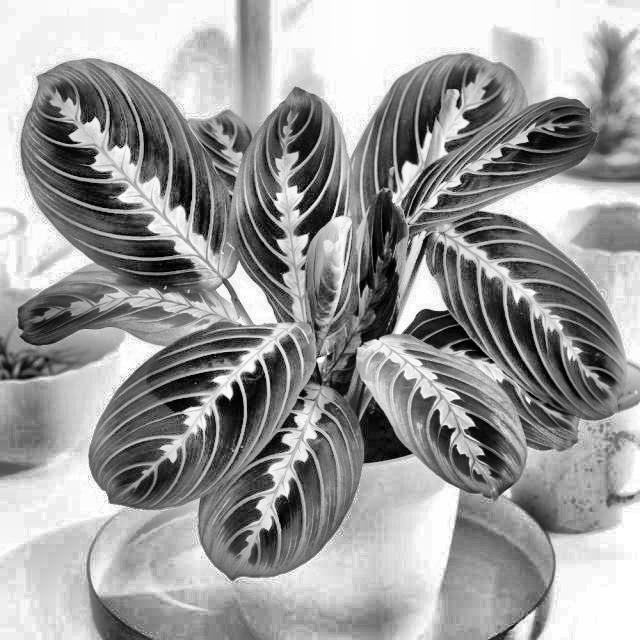plants: (21, 52, 614, 558)
